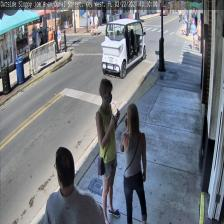person: (44, 146, 104, 224), (95, 78, 120, 224), (120, 103, 147, 224)
